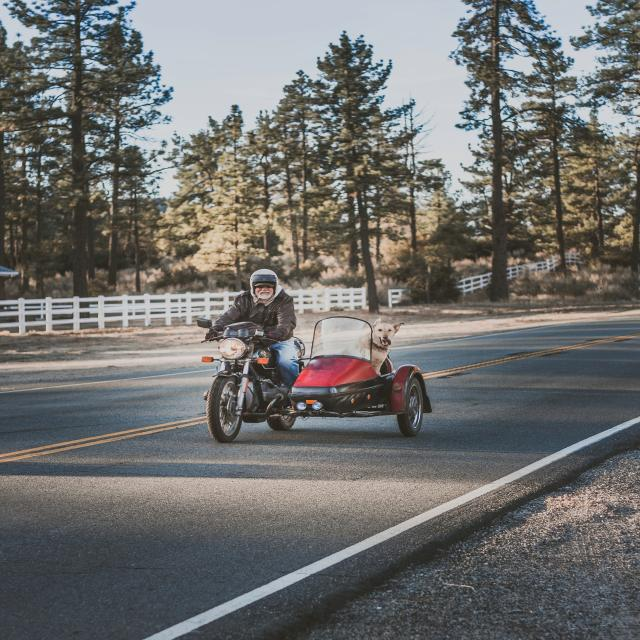adult: (190, 262, 306, 434)
